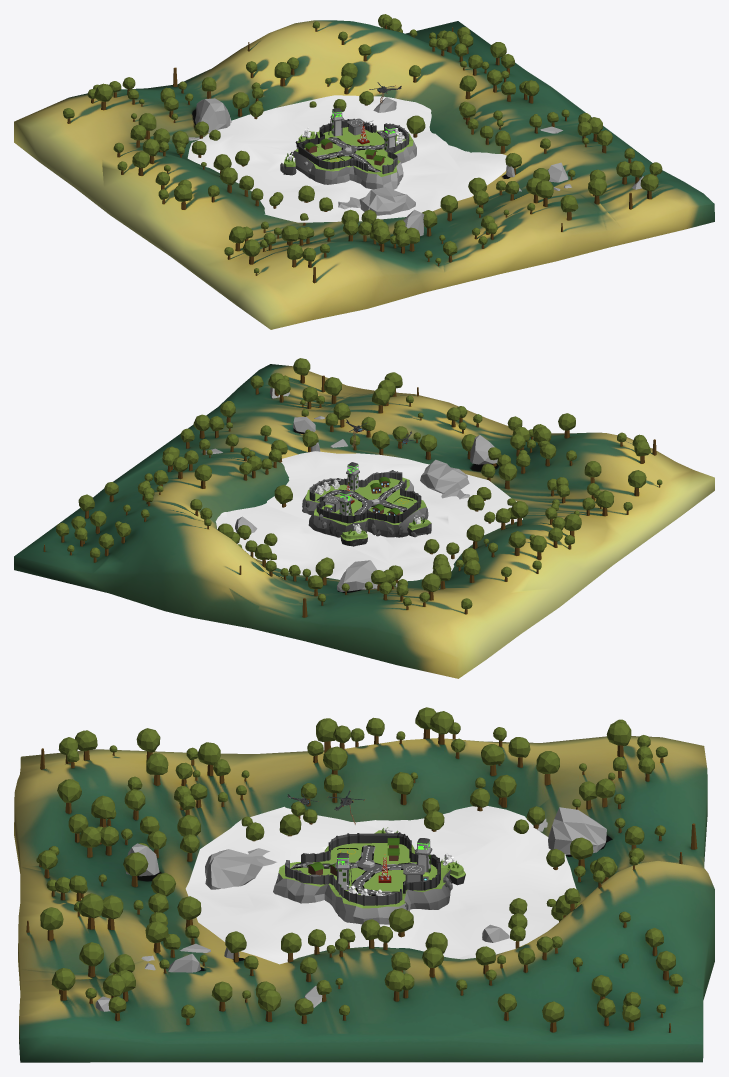
Rendered from main.glb.
3 views of the same model, one above another, from view 1: azimuth 30°, elevation 25°; view 2: azimuth 150°, elevation 25°; view 3: azimuth 270°, elevation 25° (orthographic). The views are drawn at different scales.
Visible parts, largest first — view 1: Floor, Trees, Plane, World9-Miitary, Rocks; view 2: Floor, Trees, Plane, World9-Miitary, Rocks; view 3: Floor, Trees, Plane, World9-Miitary, Rocks.
Boxes of the visible parts, box(x1,y1,x2,y2) form: Floor: box(14, 20, 714, 329); Trees: box(63, 14, 662, 283); Plane: box(187, 95, 506, 222); World9-Miitary: box(280, 82, 416, 189); Rocks: box(188, 97, 643, 235); Floor: box(14, 364, 714, 678); Trees: box(43, 358, 662, 617); Plane: box(215, 451, 522, 581); World9-Miitary: box(302, 419, 431, 546); Rocks: box(201, 387, 497, 591); Floor: box(14, 736, 714, 1062); Trees: box(26, 707, 697, 1032); Plane: box(185, 806, 576, 964); World9-Miitary: box(273, 790, 465, 924); Rocks: box(95, 807, 606, 1011).
Bounding box in the file's own units: 65.14 × 13.55 × 66.38.
8 materials, 3 textured.
